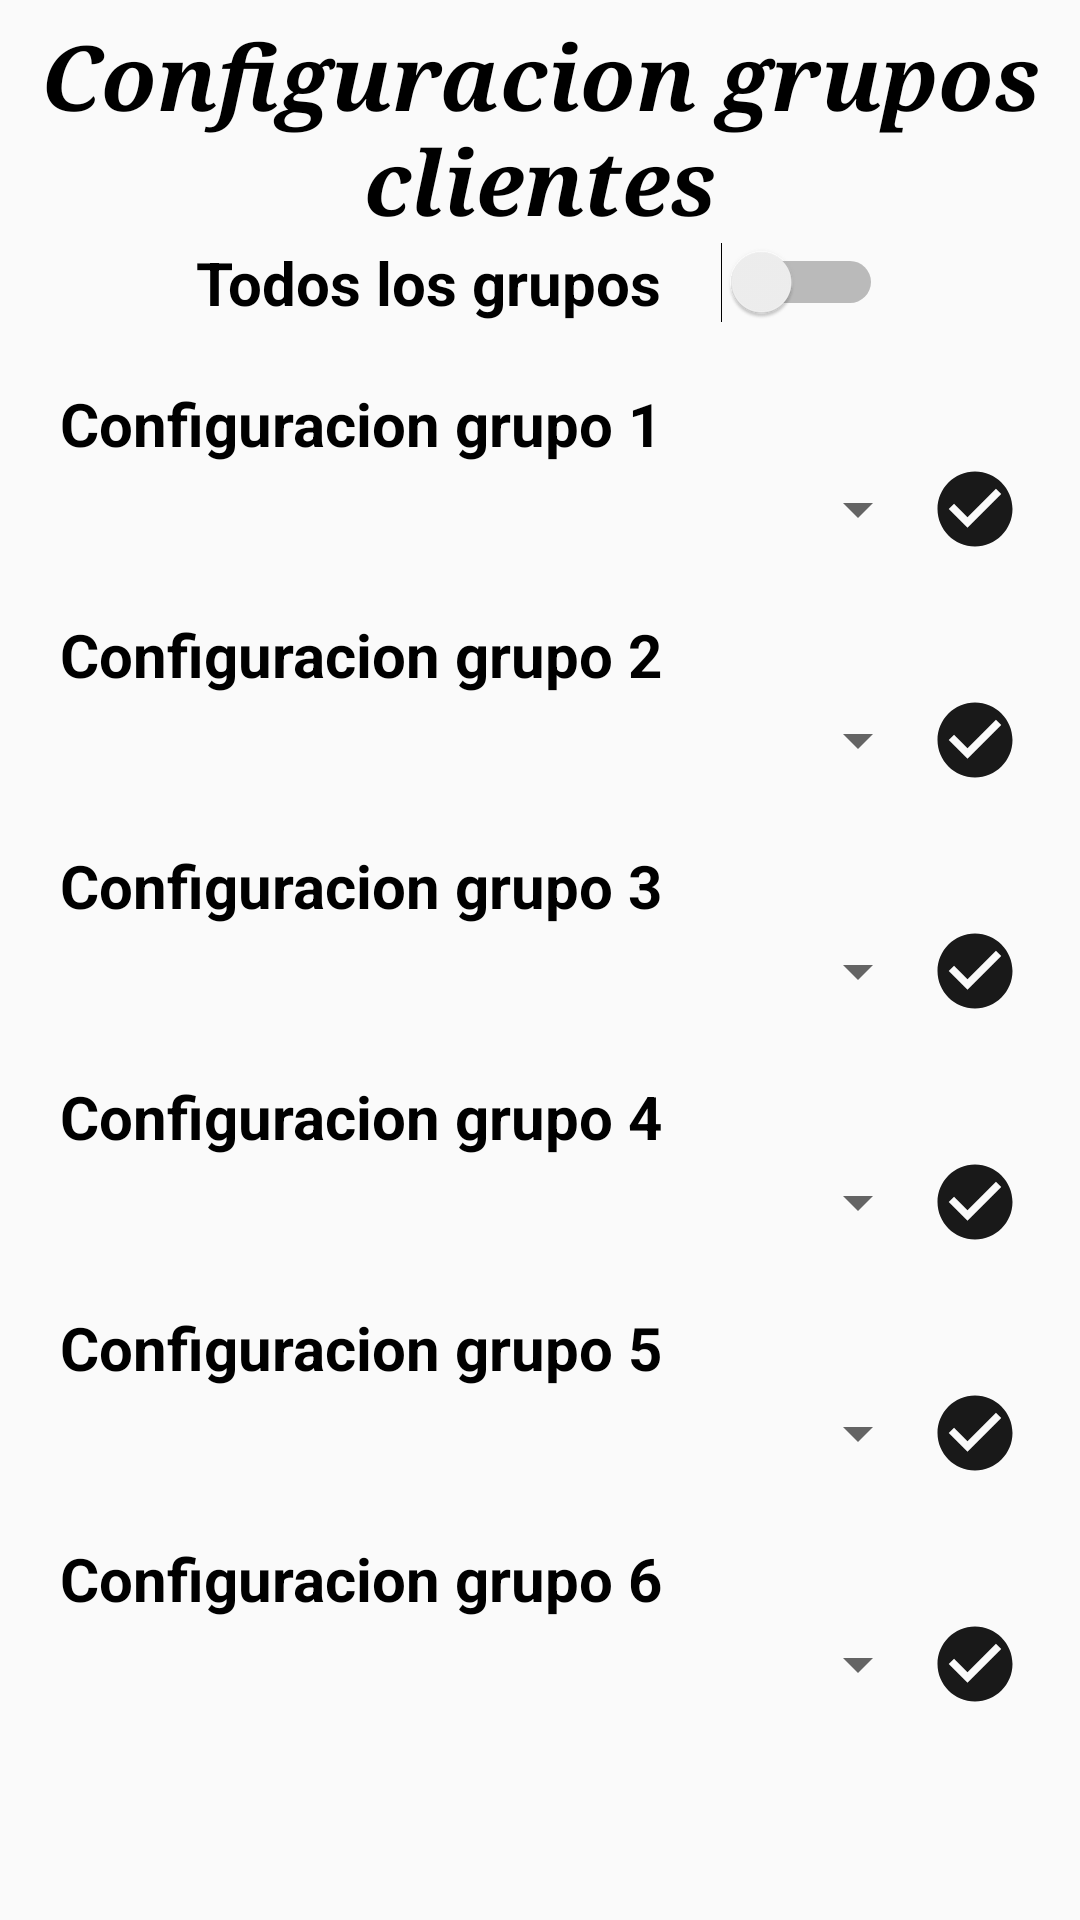

Where to tap for icons on this 1080 × 1920 app screen, as point (x, y):
accept: point (975, 509), point (975, 740), point (975, 971), point (975, 1202), point (975, 1433), point (975, 1664)
